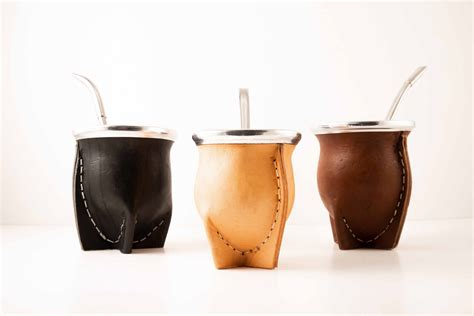cuero: (71, 133, 415, 270)
